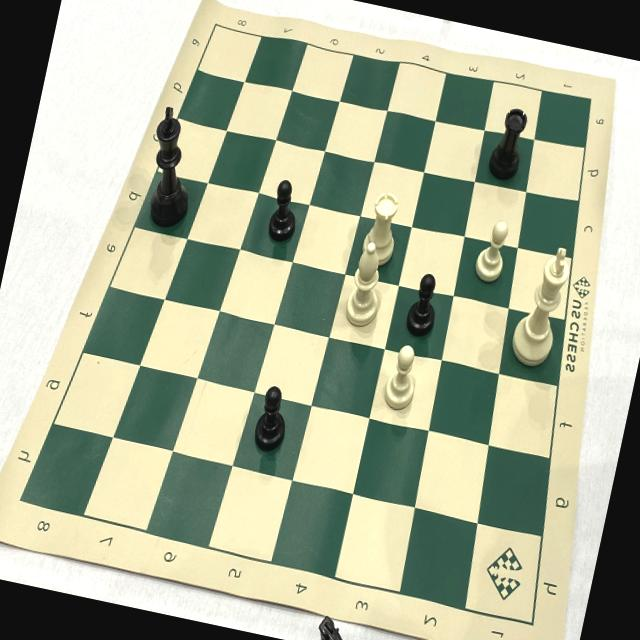black-king: (133, 100, 213, 233)
black-pawn: (246, 374, 298, 458), (261, 170, 308, 248), (401, 264, 448, 340)
black-rook: (480, 96, 534, 188)
white-bishop: (336, 236, 396, 336)
white-king: (500, 232, 580, 377)
white-pawn: (375, 334, 430, 420), (468, 211, 516, 288)
white-rook: (354, 182, 410, 274)
